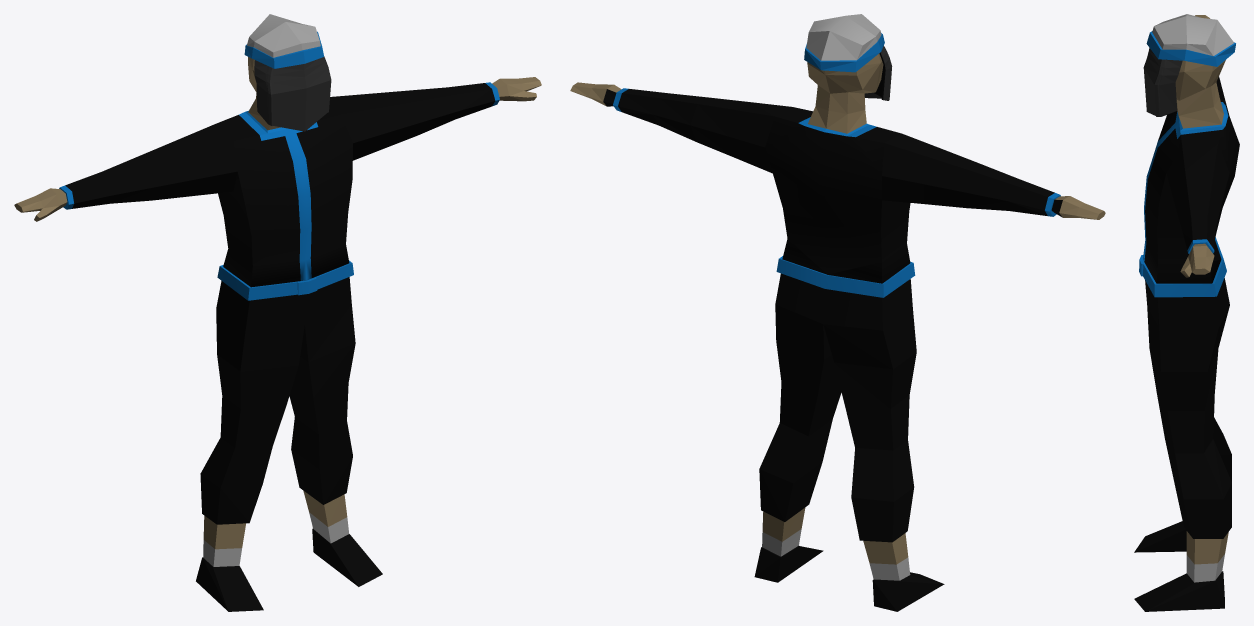
Rendered from Kaka.fbx.
3 views of the same model, side by side, from view 1: azimuth 30°, elevation 25°; view 2: azimuth 150°, elevation 25°; view 3: azimuth 270°, elevation 25° (orthographic).
Visible parts, largest first — view 1: Box002; view 2: Box002; view 3: Box002.
Part boxes in pixels (x1=…): Box002: x1=14, y1=14, x2=541, y2=611; Box002: x1=570, y1=14, x2=1105, y2=611; Box002: x1=1134, y1=14, x2=1239, y2=611.
Size of the model in its own units: 1.84 by 1.89 by 0.3239.
